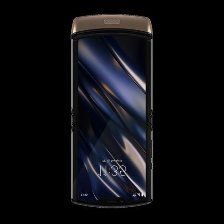phone: (63, 8, 156, 212)
